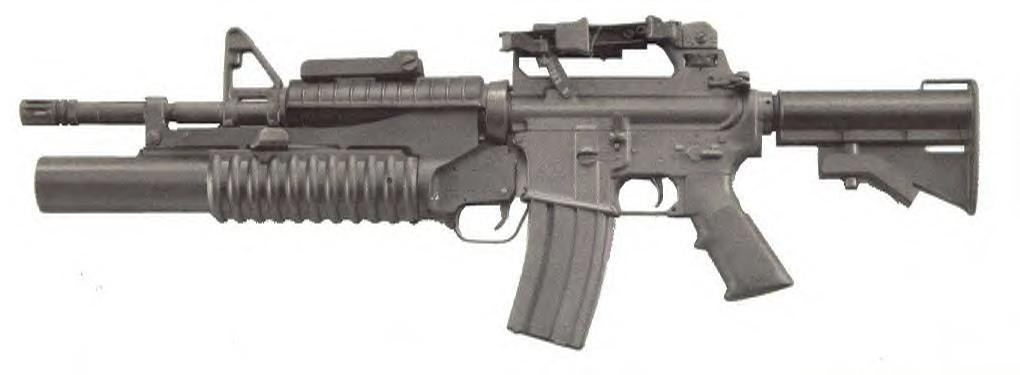Arma Real: (19, 19, 985, 347)
